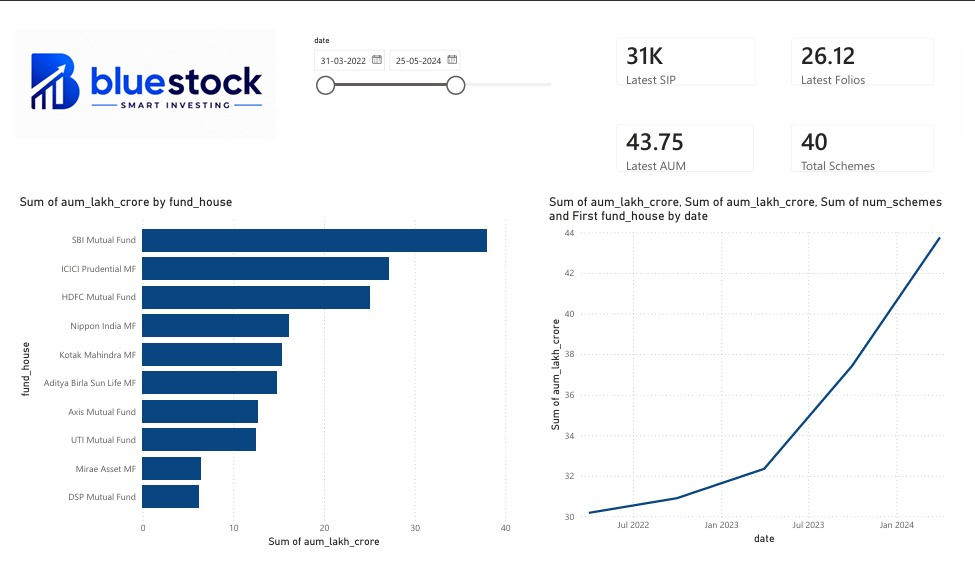

The page's visual inventory and layout, read from the dashboard file:
{"tool":"powerbi","page":{"name":"Industry Overview","canvas":[1280,720],"ordinal":0},"visuals":[{"type":"cardVisual","fields":{"Data":["aum_by_fund_house_clean.Latest AUM"]},"box":[796.1,125.9,219.5,98],"z":0},{"type":"cardVisual","fields":{"Data":["aum_by_fund_house_clean.Latest SIP"]},"box":[796.1,8.8,222.4,98],"z":1},{"type":"cardVisual","fields":{"Data":["aum_by_fund_house_clean.Latest Folios"]},"box":[1033.2,8.8,226.8,98],"z":2},{"type":"cardVisual","fields":{"Data":["aum_by_fund_house_clean.Total Schemes"]},"box":[1033.2,125.9,226.8,98],"z":3},{"type":"lineChart","fields":{"Y":["Sum(aum_by_fund_house_clean.aum_lakh_crore)"],"Category":["aum_by_fund_house_clean.date"]},"box":[717.1,237.1,563.4,478.5],"z":4},{"type":"clusteredBarChart","fields":{"Category":["aum_by_fund_house_clean.fund_house"],"Y":["Sum(aum_by_fund_house_clean.aum_lakh_crore)"]},"box":[0,237.1,674.6,482.9],"z":5},{"type":"slicer","fields":{"Values":["aum_by_fund_house_clean.date"]},"box":[390.7,17.6,357.1,139],"z":6},{"type":"image","box":[0,0,352.7,175.6],"z":7}]}

Visuals, with their boxes on the page's 1280x720 design canvas (x1, y1, x2, y2). These are canvas units, not pixel positions in the 975x569 screenshot, which may show the page scaled, cropped or inside an application window:
cardVisual - aum_by_fund_house_clean.Latest AUM: bbox=(796, 126, 1016, 224)
cardVisual - aum_by_fund_house_clean.Latest SIP: bbox=(796, 9, 1018, 107)
cardVisual - aum_by_fund_house_clean.Latest Folios: bbox=(1033, 9, 1260, 107)
cardVisual - aum_by_fund_house_clean.Total Schemes: bbox=(1033, 126, 1260, 224)
lineChart - Sum(aum_by_fund_house_clean.aum_lakh_crore) x aum_by_fund_house_clean.date: bbox=(717, 237, 1280, 716)
clusteredBarChart - aum_by_fund_house_clean.fund_house x Sum(aum_by_fund_house_clean.aum_lakh_crore): bbox=(0, 237, 675, 720)
slicer - aum_by_fund_house_clean.date: bbox=(391, 18, 748, 157)
image: bbox=(0, 0, 353, 176)
